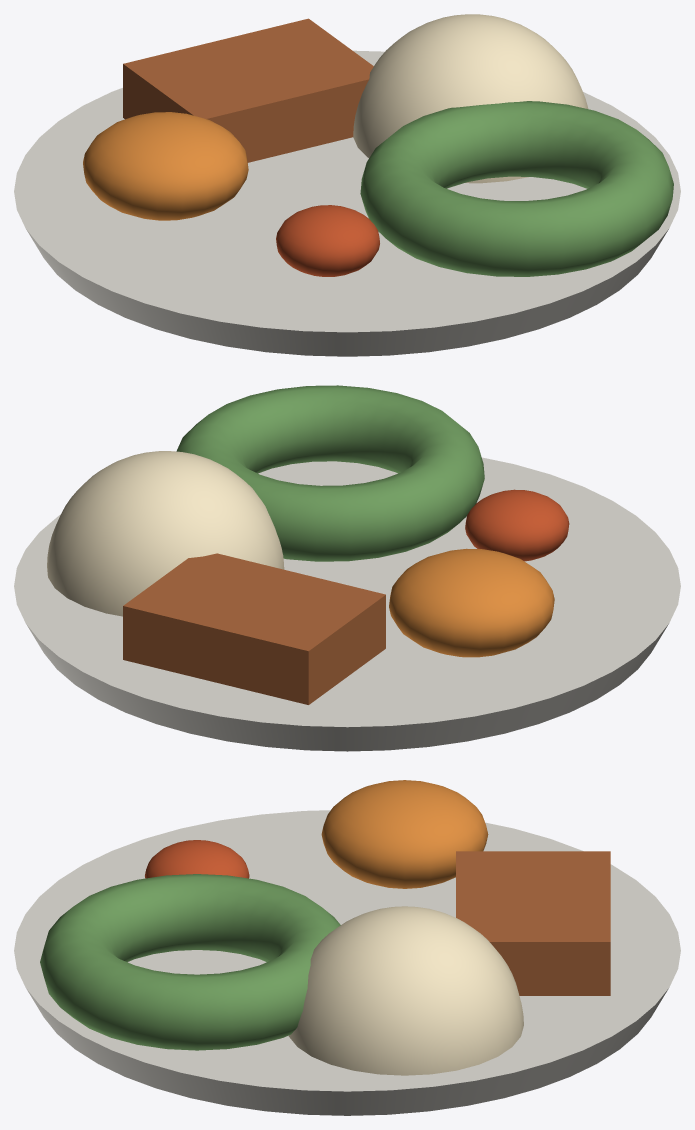
3 renders of one model, top to bottom at view 1: azimuth 30°, elevation 25°; view 2: azimuth 150°, elevation 25°; view 3: azimuth 270°, elevation 25°, orthographic.
Parts seen in each view (by area): view 1: plate, part_salada, part_proteina, part_carboidrato, part_extra, part_molho_guarnicao; view 2: plate, part_salada, part_proteina, part_carboidrato, part_extra, part_molho_guarnicao; view 3: plate, part_salada, part_carboidrato, part_proteina, part_extra, part_molho_guarnicao.
Part boxes in pixels (bbox=[...]): plate: bbox=[14, 50, 680, 356]; part_salada: bbox=[360, 101, 673, 276]; part_proteina: bbox=[123, 18, 373, 162]; part_carboidrato: bbox=[353, 14, 588, 183]; part_extra: bbox=[83, 112, 248, 220]; part_molho_guarnicao: bbox=[276, 205, 379, 276]; plate: bbox=[14, 457, 680, 751]; part_salada: bbox=[176, 385, 484, 561]; part_proteina: bbox=[123, 553, 385, 704]; part_carboidrato: bbox=[47, 451, 284, 616]; part_extra: bbox=[389, 548, 554, 657]; part_molho_guarnicao: bbox=[465, 489, 569, 561]; plate: bbox=[14, 810, 680, 1115]; part_salada: bbox=[40, 874, 340, 1050]; part_carboidrato: bbox=[288, 906, 523, 1075]; part_proteina: bbox=[456, 851, 610, 995]; part_extra: bbox=[321, 780, 488, 888]; part_molho_guarnicao: bbox=[145, 840, 249, 878].
Size of the model in its own units: 0.28 by 0.065 by 0.28.
